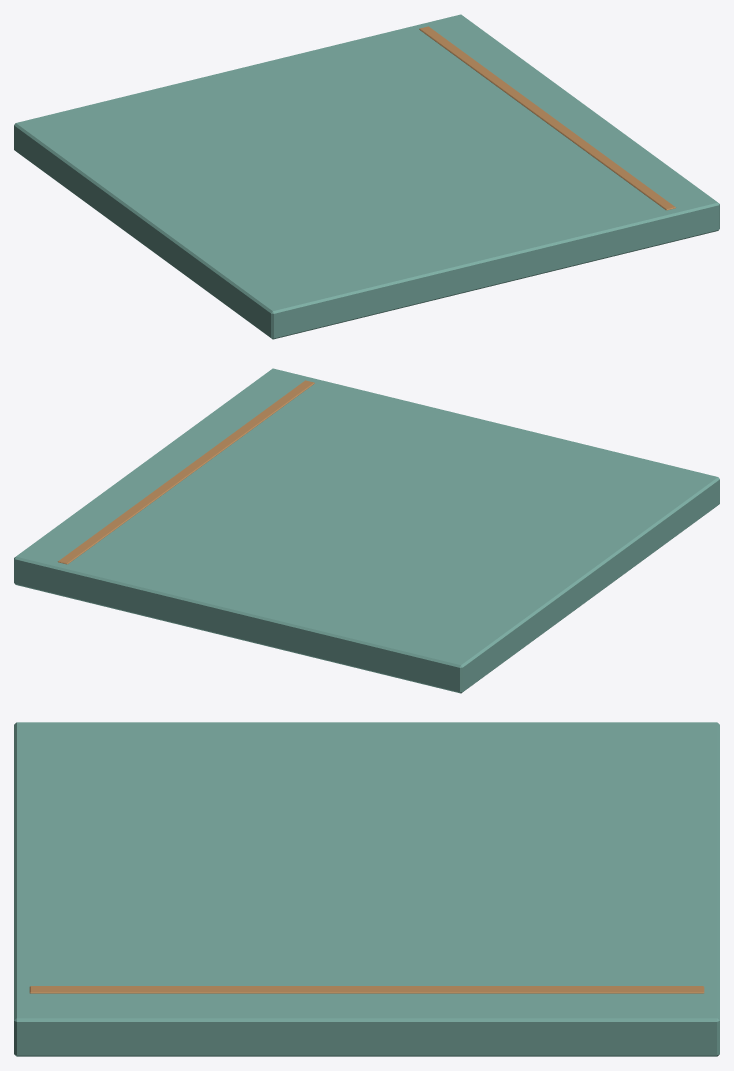
3 views of the same model, one above another, from view 1: azimuth 30°, elevation 25°; view 2: azimuth 150°, elevation 25°; view 3: azimuth 270°, elevation 25° (orthographic). The views are drawn at different scales.
Parts seen in each view (by area): view 1: aviation-apron-tile-01; view 2: aviation-apron-tile-01; view 3: aviation-apron-tile-01.
Part boxes in pixels (x1,y1,x2,y2): aviation-apron-tile-01: (14, 14, 719, 339); aviation-apron-tile-01: (14, 368, 719, 693); aviation-apron-tile-01: (14, 722, 719, 1056).
Size of the model in its own units: 1.99 by 0.124 by 1.99.
